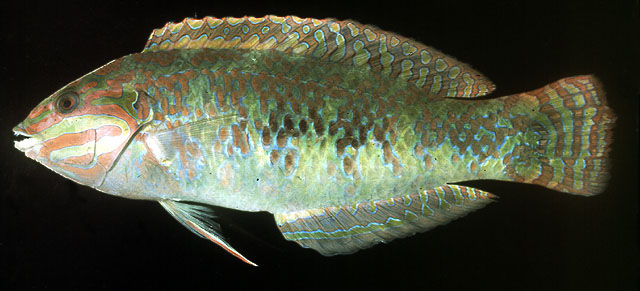fish: (14, 15, 618, 266)
